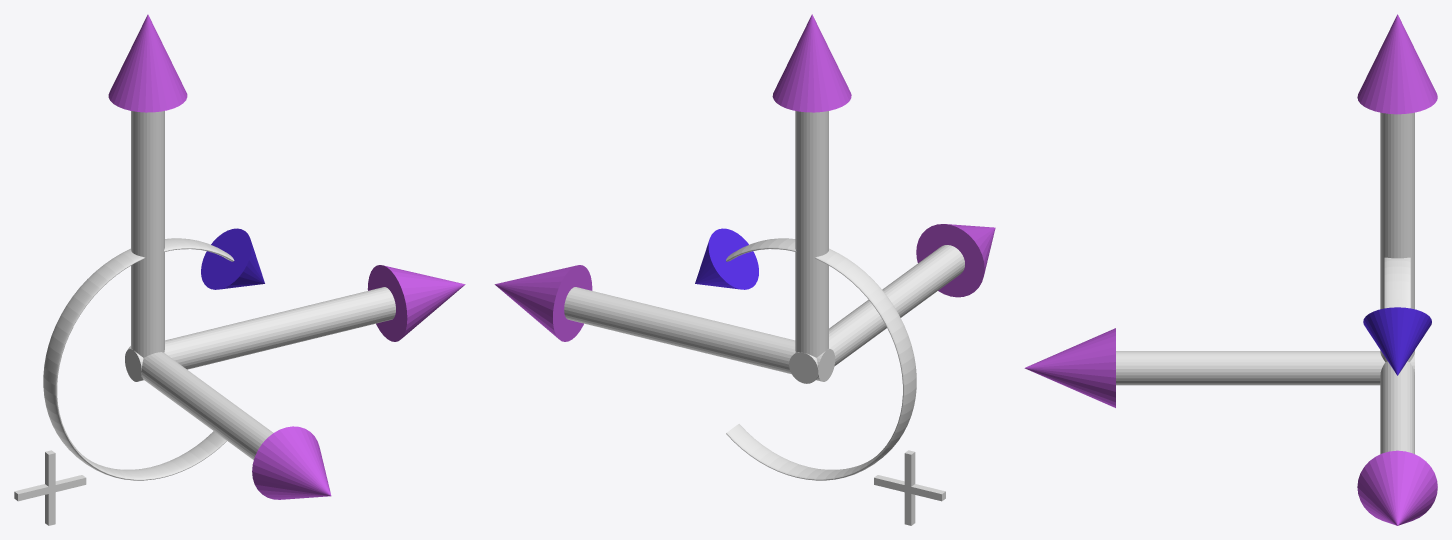
File: Coordinate.fbx
3 renders of one model, left to right at view 1: azimuth 30°, elevation 25°; view 2: azimuth 150°, elevation 25°; view 3: azimuth 270°, elevation 25°, orthographic.
Parts seen in each view (by area): view 1: Y, X, Z, Moment, Cone, Plus; view 2: Y, X, Z, Moment, Cone, Plus; view 3: Z, Y, X, Cone, Moment.
Boxes of the visible parts, x1,y1,x2,y2 form: Y: [108, 14, 187, 357]; X: [125, 265, 465, 381]; Z: [127, 346, 331, 499]; Moment: [43, 238, 234, 480]; Cone: [201, 228, 264, 289]; Plus: [14, 450, 86, 525]; Y: [772, 14, 851, 357]; X: [494, 265, 835, 381]; Z: [789, 224, 995, 383]; Moment: [726, 238, 916, 480]; Cone: [695, 228, 758, 289]; Plus: [874, 450, 945, 525]; Z: [1024, 328, 1414, 407]; Y: [1357, 14, 1437, 361]; X: [1357, 361, 1437, 525]; Cone: [1363, 307, 1431, 375]; Moment: [1384, 257, 1410, 308].
Bounding box in the file's own units: 460 × 475 × 360.
